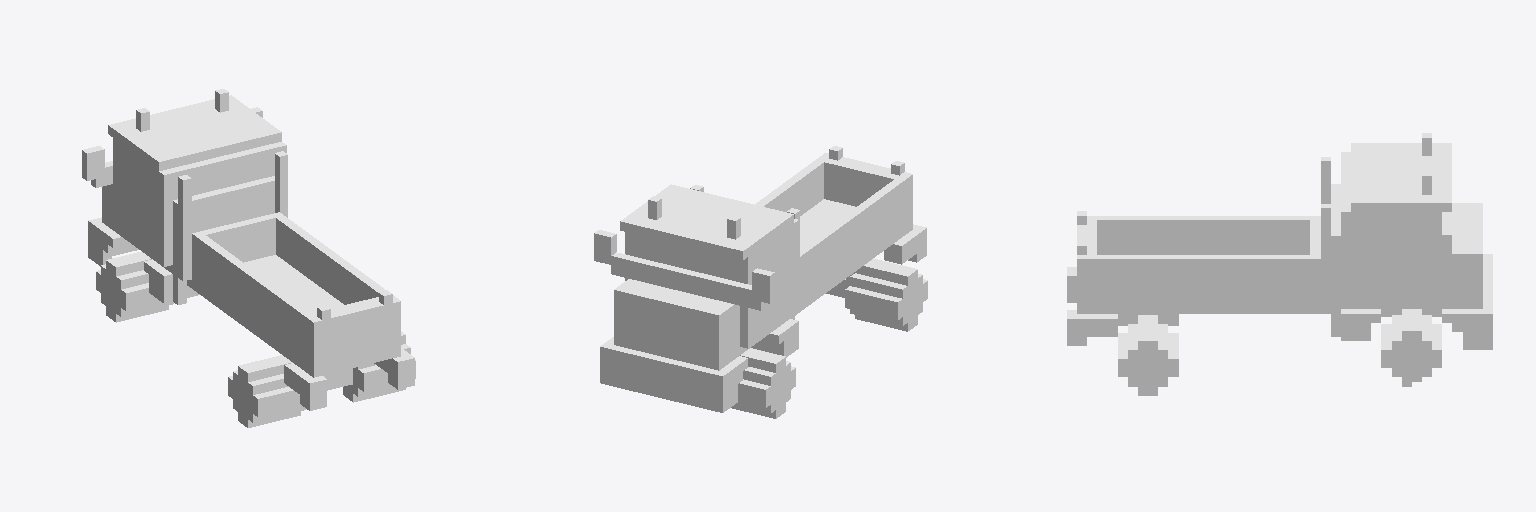
Rendered from camionazul.obj.
3 renders of one model, left to right at view 1: azimuth 30°, elevation 25°; view 2: azimuth 150°, elevation 25°; view 3: azimuth 270°, elevation 25°, orthographic.
Visible parts, largest first — view 1: object 1; view 2: object 1; view 3: object 1.
Boxes of the visible parts, x1,y1,x2,y2 form: object 1: [82, 89, 415, 427]; object 1: [594, 146, 927, 418]; object 1: [1067, 133, 1492, 395].
Bounding box in the file's own units: 2 × 2.2 × 4.2.